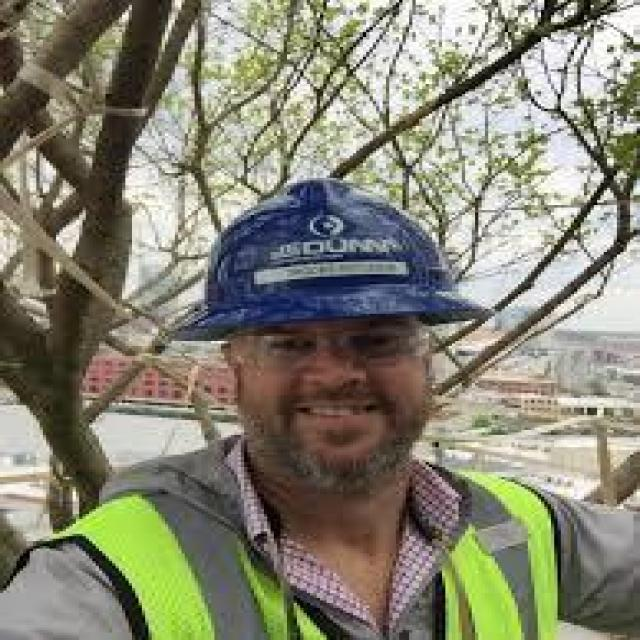helmet: (162, 175, 494, 338)
